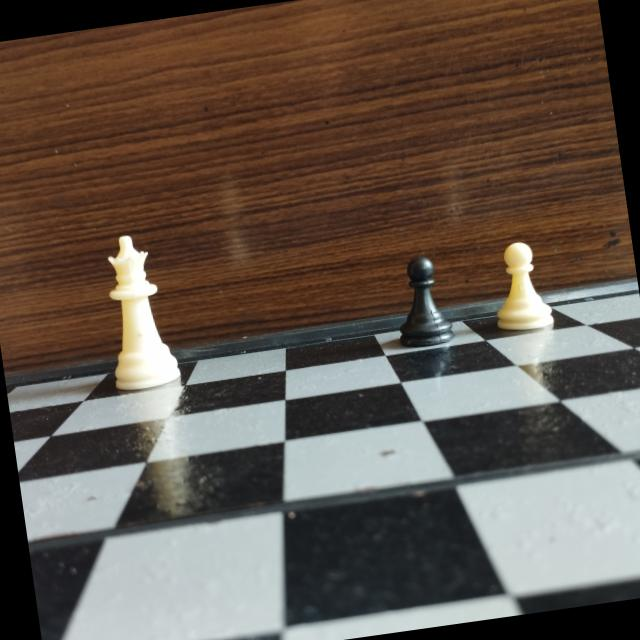Black Pawn: (384, 243, 460, 353)
White Pawn: (486, 234, 562, 338)
White Queen: (92, 226, 188, 398)
